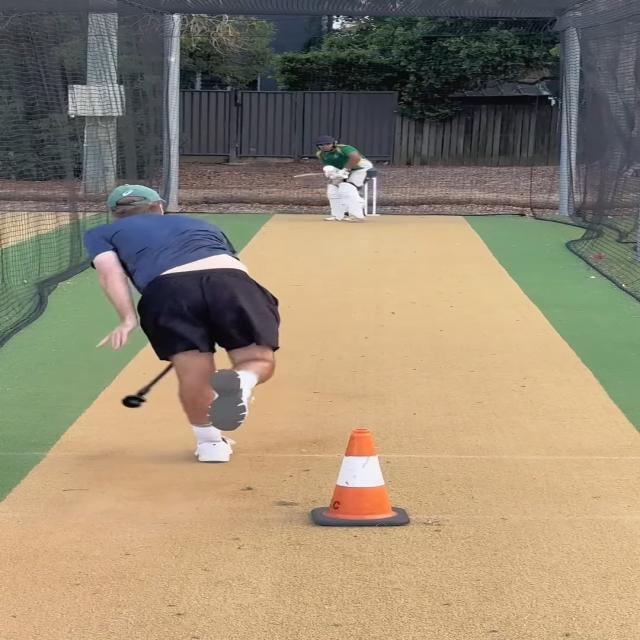Cricket ball: (322, 164, 336, 173)
